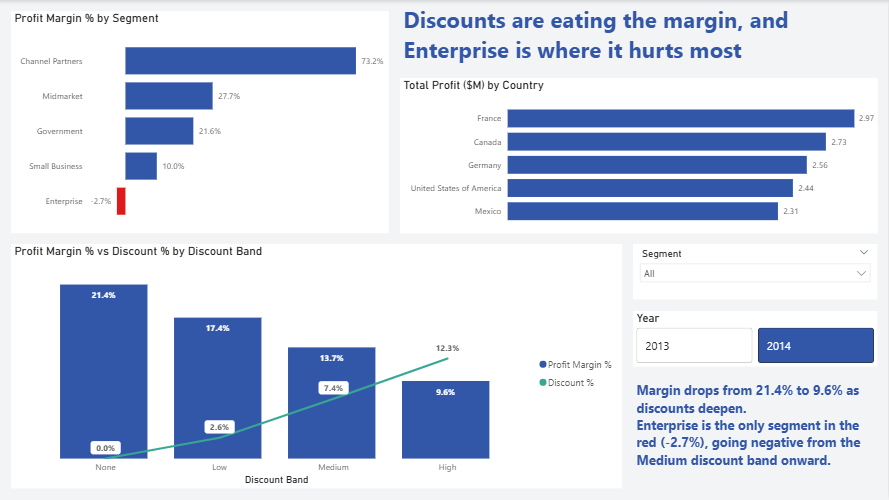

What the dashboard file says about the page in this screenshot:
{"tool":"powerbi","page":{"name":"Geo/Segment drill-down","canvas":[1280,720],"ordinal":1},"visuals":[{"type":"clusteredBarChart","title":"Profit Margin % by Segment","fields":{"Category":["Financials.segment"],"Y":["_Measures_.Profit Margin %"]},"box":[16,16,544,320],"z":0},{"type":"clusteredBarChart","title":"Total Profit ($M) by Country","fields":{"Category":["Financials.country"],"Y":["_Measures_.Profit ($M)"]},"box":[576,112,688,224],"z":1000},{"type":"lineClusteredColumnComboChart","title":"Profit Margin % vs Discount % by Discount Band","fields":{"Category":["Financials.discount_band"],"Y":["_Measures_.Profit Margin %"],"Y2":["_Measures_.Discount %"]},"box":[16,352,880,352],"z":2000},{"type":"slicer","fields":{"Values":["Financials.segment"]},"box":[912,352,352,80],"z":3000},{"type":"advancedSlicerVisual","fields":{"Values":["DateTable.Year"]},"box":[912,448,352,80],"z":4000},{"type":"textbox","box":[912,544,352,160],"z":5000},{"type":"textbox","box":[576,0,576,96],"z":6000}]}

Visuals, with their boxes in screenshot pixels (x1, y1, x2, y2), scaled from the page's 1280x720 canvas onto the 889x500 screenshot:
"Profit Margin % by Segment" clusteredBarChart: select_region(11, 11, 389, 233)
"Total Profit ($M) by Country" clusteredBarChart: select_region(400, 78, 878, 233)
"Profit Margin % vs Discount % by Discount Band" lineClusteredColumnComboChart: select_region(11, 244, 622, 489)
slicer - Financials.segment: select_region(633, 244, 878, 300)
advancedSlicerVisual - DateTable.Year: select_region(633, 311, 878, 367)
textbox: select_region(633, 378, 878, 489)
textbox: select_region(400, 0, 800, 67)
